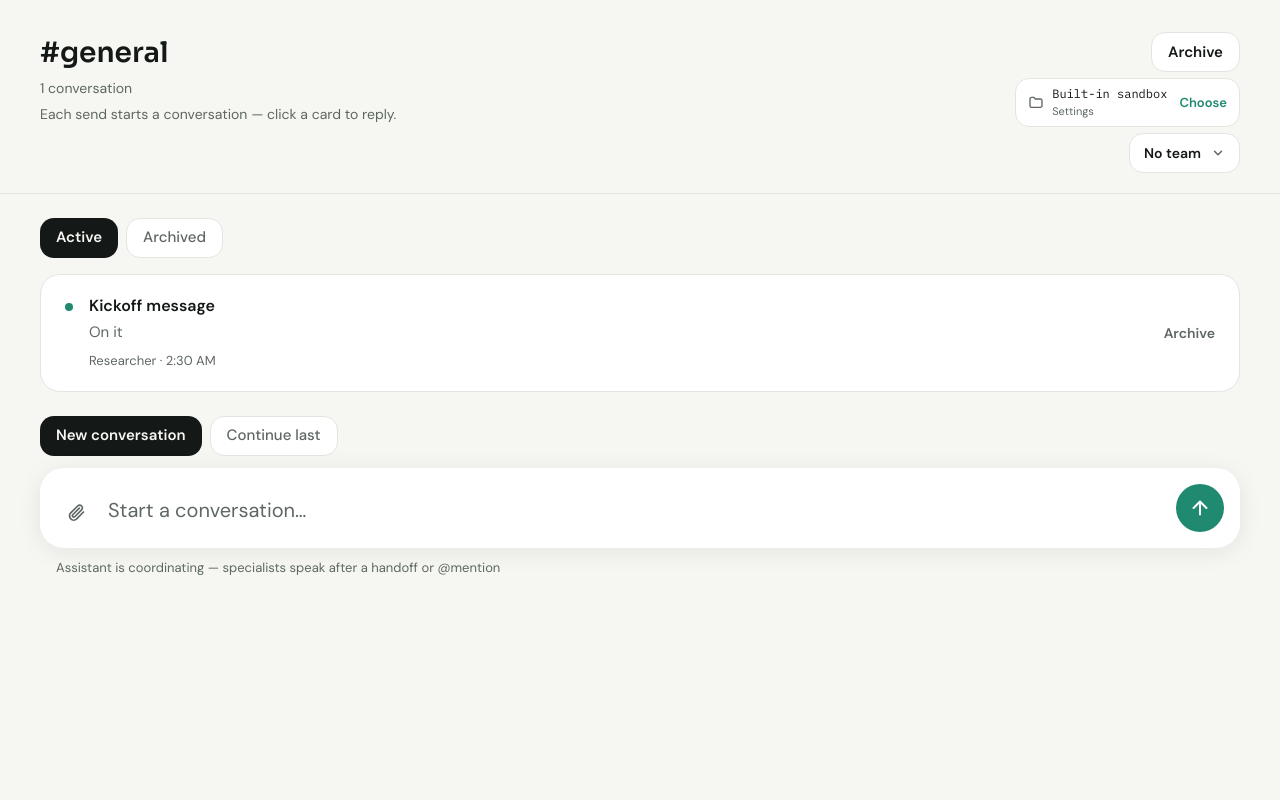
channels/[id]/+page.svelte › hides archived conversations until Archived is selected
Expected: the text "Kickoff message" is shown, [89,294,216,316]
Click the button "Archived" at (174, 238), box [126,218,223,258]
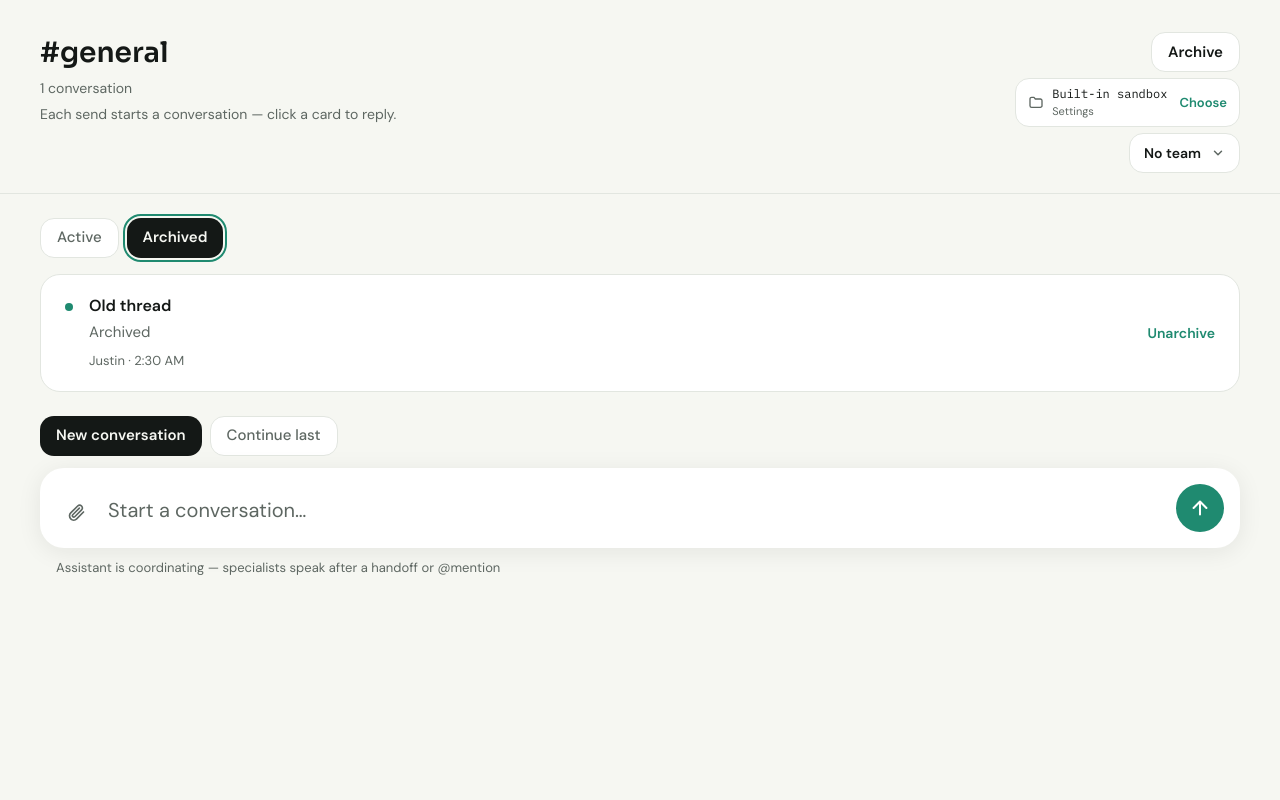
Expected: the text "Old thread" is shown, [89,294,184,316]
